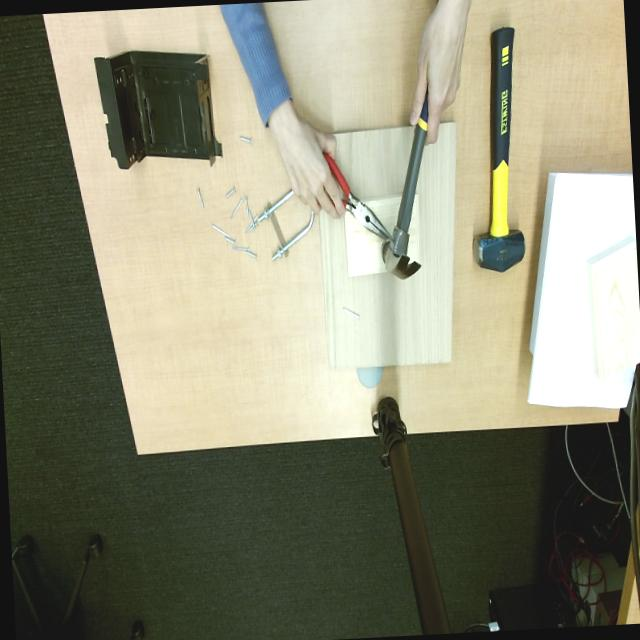hammer: (382, 94, 428, 279), (473, 229, 525, 273)
pliers: (324, 153, 391, 241)
